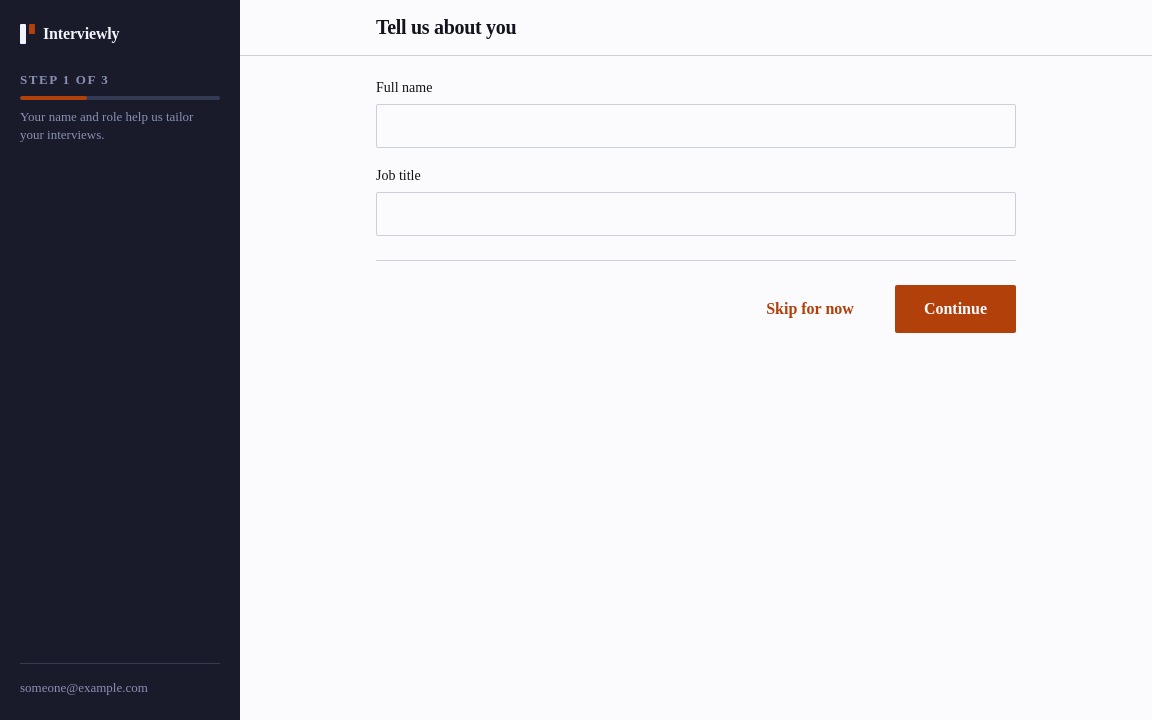
Test case: onboarding step page › keeps the draft and shows the mapped code when a save is refused
The width and height of the screenshot is (1152, 720).
Type "Ada" into the field labelled "Full name" at (696, 126), box [376,104,1016,148]
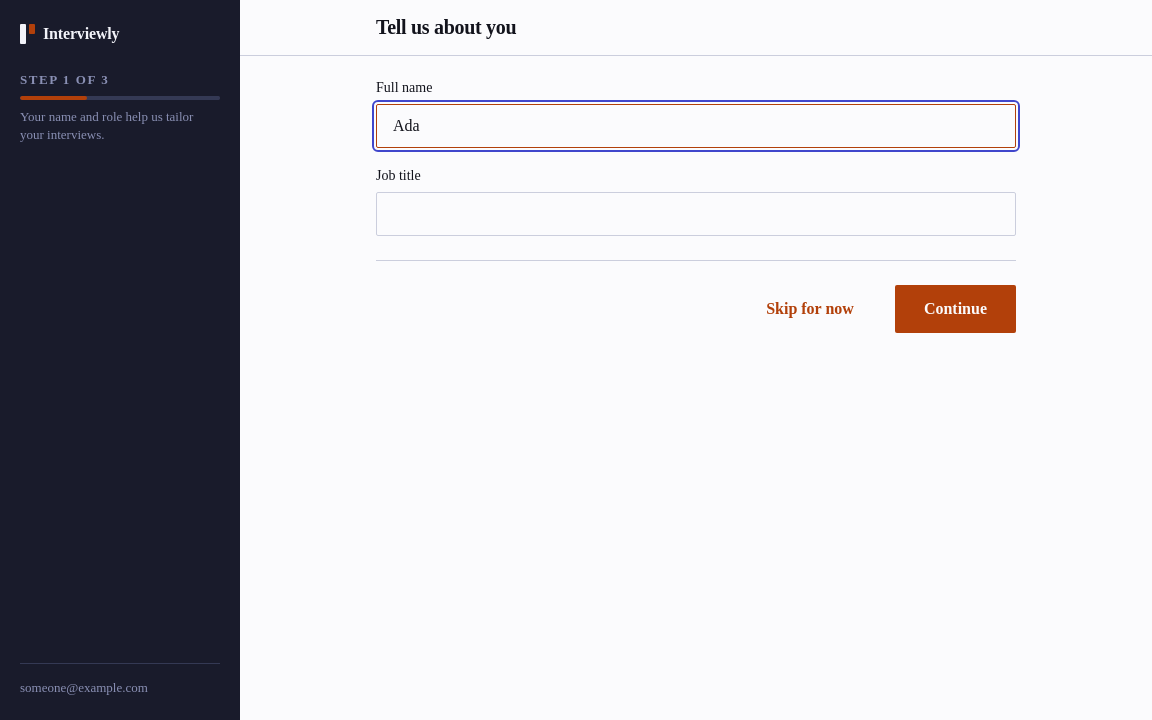
Click the button "Continue" at (955, 309), box [895,285,1016,333]
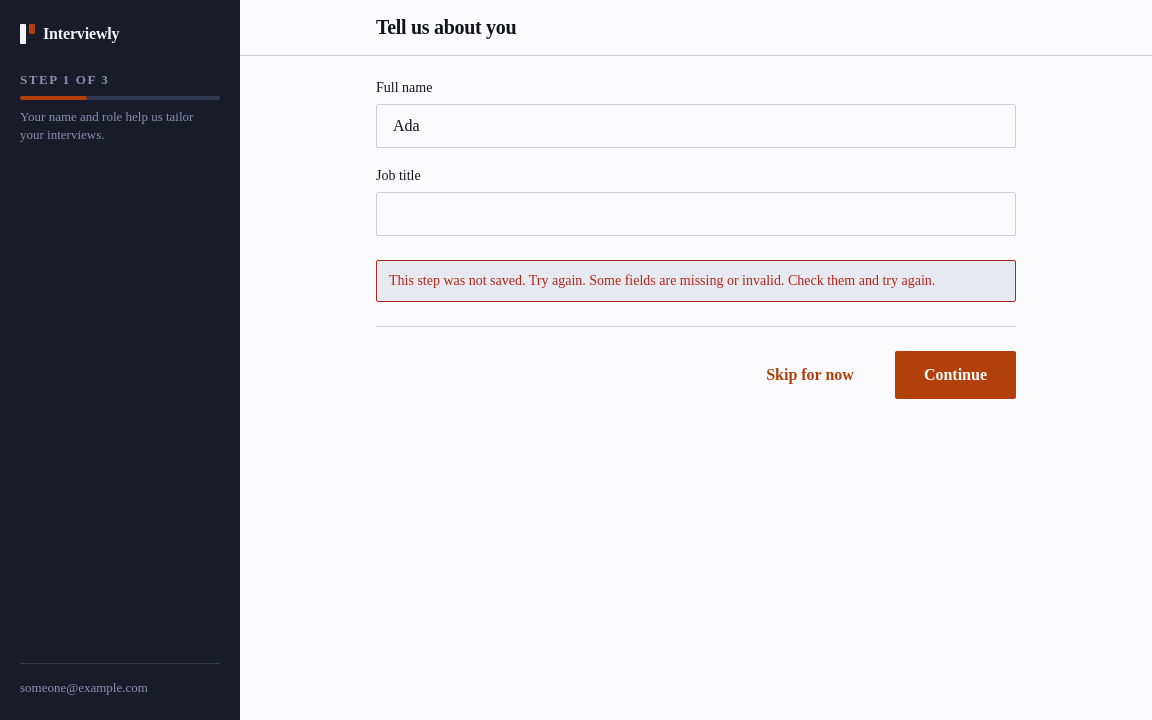
Check: the message shows "This step was not saved. Try again.", box [389,273,935,288]
Check: the message shows "Some fields are missing or invalid. Check them and try again.", box [389,273,935,288]
